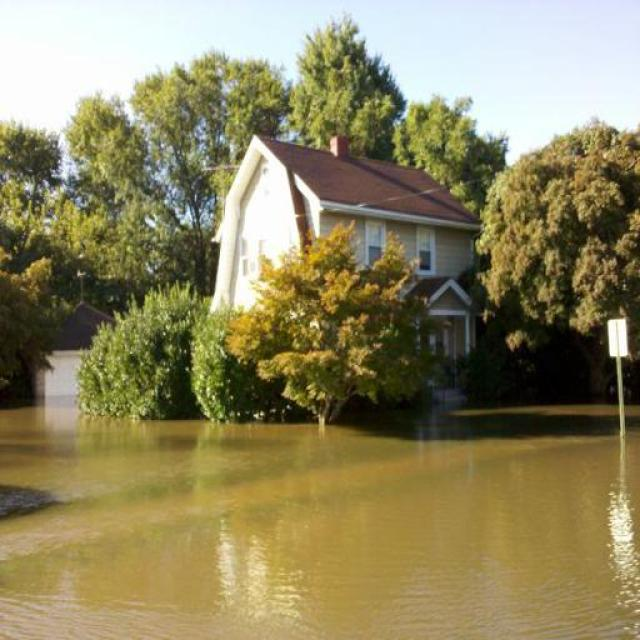puddle: (2, 409, 640, 640)
